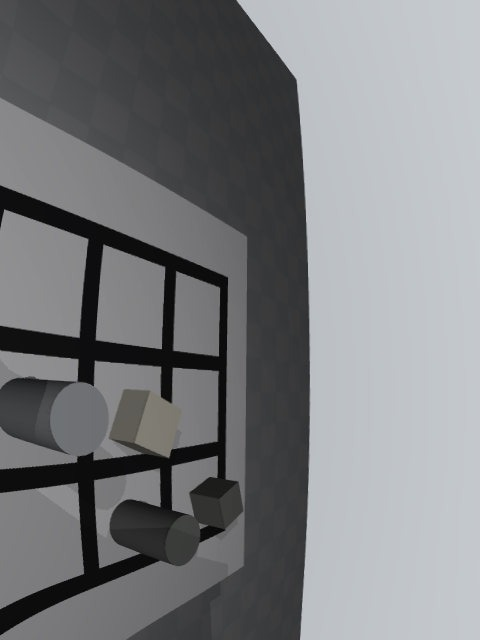can: (0, 378, 109, 457)
cube: (190, 477, 244, 530)
cylinder: (109, 499, 200, 566)
foam: (109, 389, 182, 459)
